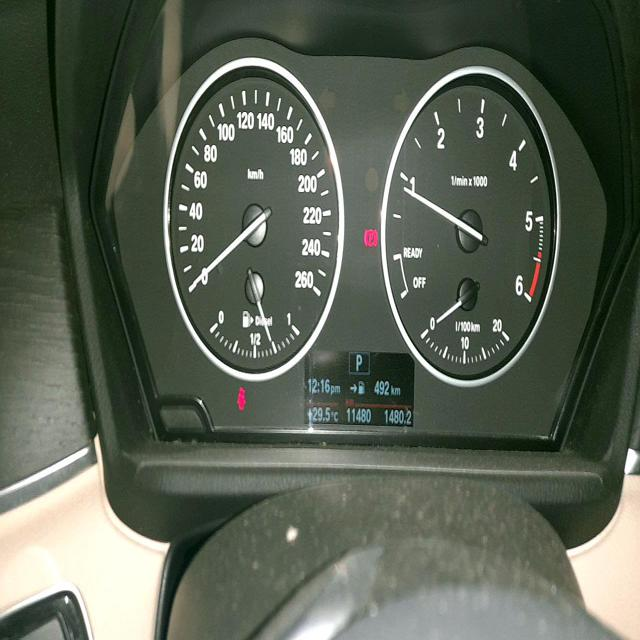odometer: (344, 408, 374, 427)
